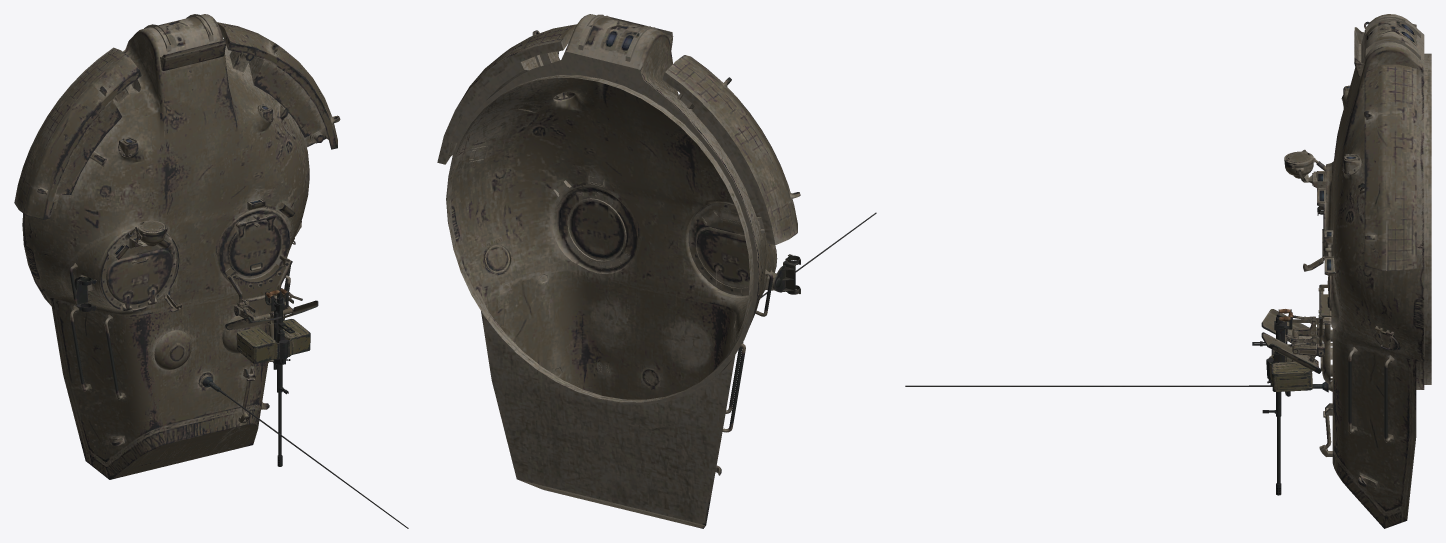
The model's file is Turret_02.glb.
The picture shows the model from 3 angles, left to right: view 1: azimuth 30°, elevation 25°; view 2: azimuth 150°, elevation 25°; view 3: azimuth 270°, elevation 25°; orthographic projection. The views are drawn at different scales.
Parts seen in each view (by area): view 1: set_0_group_0, set_0_group_1; view 2: set_0_group_0, set_0_group_1; view 3: set_0_group_0, set_0_group_1.
Boxes of the visible parts, bbox=[...] form: set_0_group_0: bbox=[14, 14, 340, 479]; set_0_group_1: bbox=[201, 138, 408, 528]; set_0_group_0: bbox=[447, 14, 800, 528]; set_0_group_1: bbox=[437, 41, 876, 525]; set_0_group_0: bbox=[1284, 14, 1431, 528]; set_0_group_1: bbox=[905, 284, 1424, 495].
Bounding box in the file's own units: 2.98 × 4.01 × 4.13.
2 materials, 2 textured.
